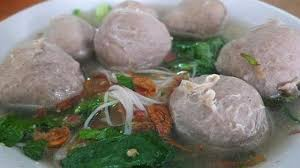bakso: (3, 5, 300, 145)
